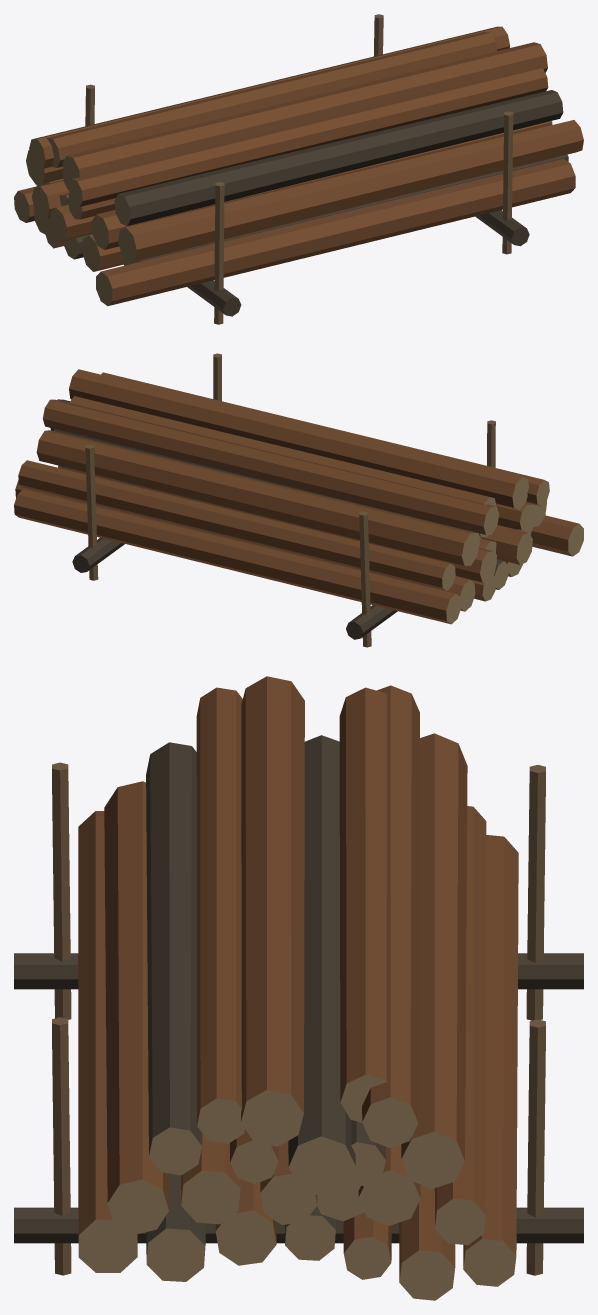
Rendered from Scenery_LogPile.fbx.
3 renders of one model, top to bottom at view 1: azimuth 30°, elevation 25°; view 2: azimuth 150°, elevation 25°; view 3: azimuth 270°, elevation 25°, orthographic. The views are drawn at different scales.
Visible parts, largest first — view 1: Scenery_LogPile_Mesh; view 2: Scenery_LogPile_Mesh; view 3: Scenery_LogPile_Mesh.
Boxes of the visible parts, left/top/right/bottom form: Scenery_LogPile_Mesh: left=14, top=14, right=583, bottom=324; Scenery_LogPile_Mesh: left=14, top=353, right=583, bottom=647; Scenery_LogPile_Mesh: left=14, top=676, right=583, bottom=1300.
Size of the model in its own units: 6.53 by 1.83 by 3.6.
